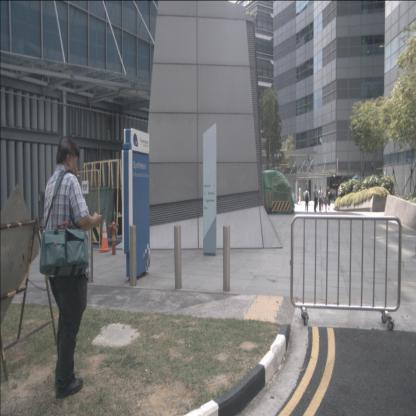human-pedestrian-adult: (40, 137, 106, 399), (304, 188, 310, 212), (318, 186, 323, 213), (313, 186, 318, 212), (324, 189, 328, 212), (327, 192, 331, 210), (303, 190, 306, 201), (322, 194, 324, 210)
movable_object-trafficcone: (98, 219, 112, 252)
